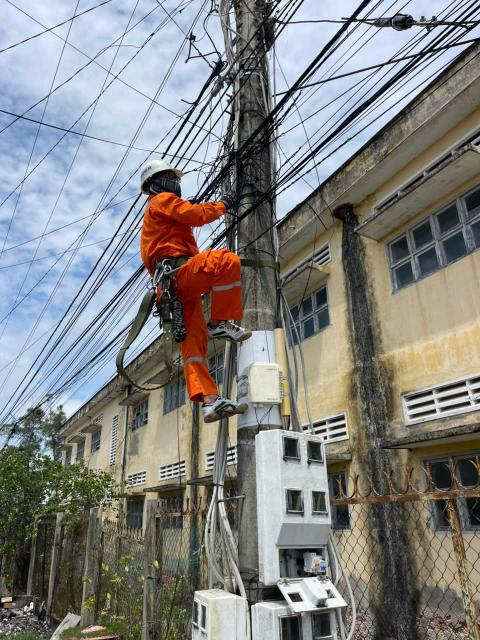gloves: (213, 191, 248, 211)
harness: (150, 239, 220, 281)
helmet: (125, 153, 188, 192)
shoes: (185, 306, 259, 358), (193, 392, 249, 431)
